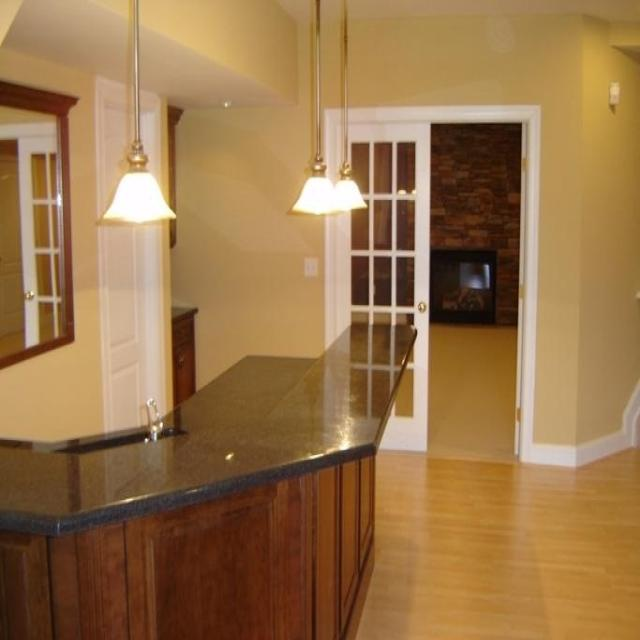door: (318, 103, 542, 467), (91, 70, 172, 436)
